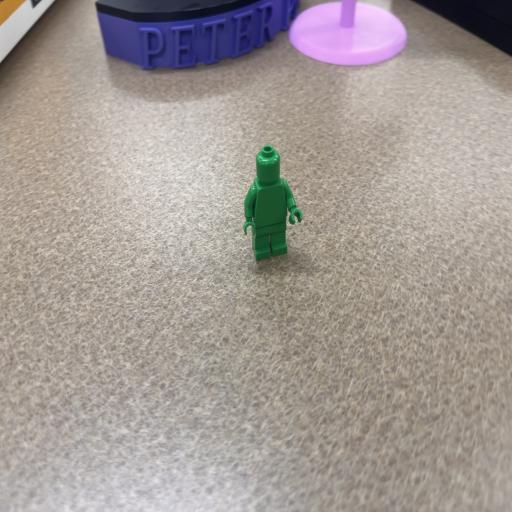Lego-Minifig: (244, 145, 302, 260)
